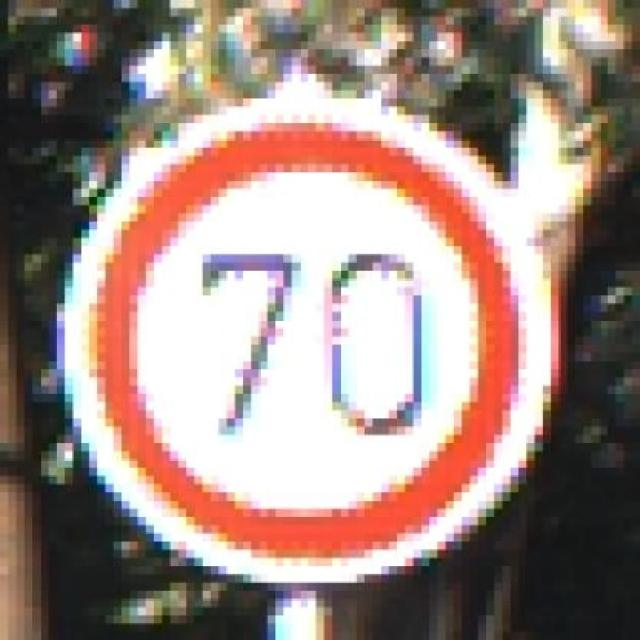forb_speed_over_70: (80, 103, 546, 583)
